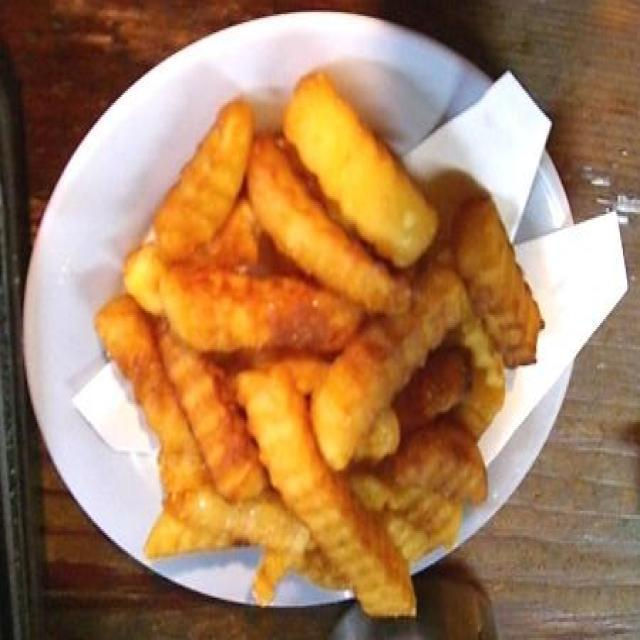French Fries: (106, 132, 528, 620)
